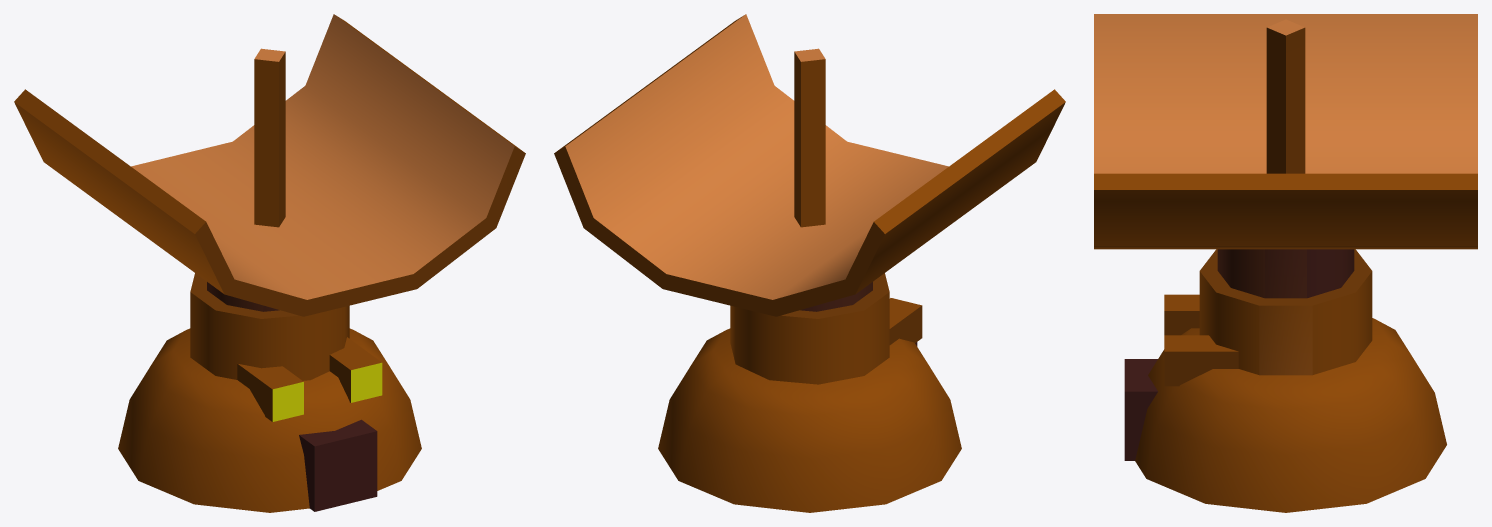
Rendered from Lab.UmberWilds.glb.
3 renders of one model, left to right at view 1: azimuth 30°, elevation 25°; view 2: azimuth 150°, elevation 25°; view 3: azimuth 270°, elevation 25°, orthographic. The views are drawn at different scales.
Parts seen in each view (by area): view 1: Lab.UmberWilds; view 2: Lab.UmberWilds; view 3: Lab.UmberWilds.
Boxes of the visible parts, <box> form: Lab.UmberWilds: <box>14,14,525,512</box>; Lab.UmberWilds: <box>554,14,1065,512</box>; Lab.UmberWilds: <box>1094,14,1477,512</box>.
Bounding box in the file's own units: 2.11 × 2.41 × 2.
Materials: 2 (1 with a texture image).
